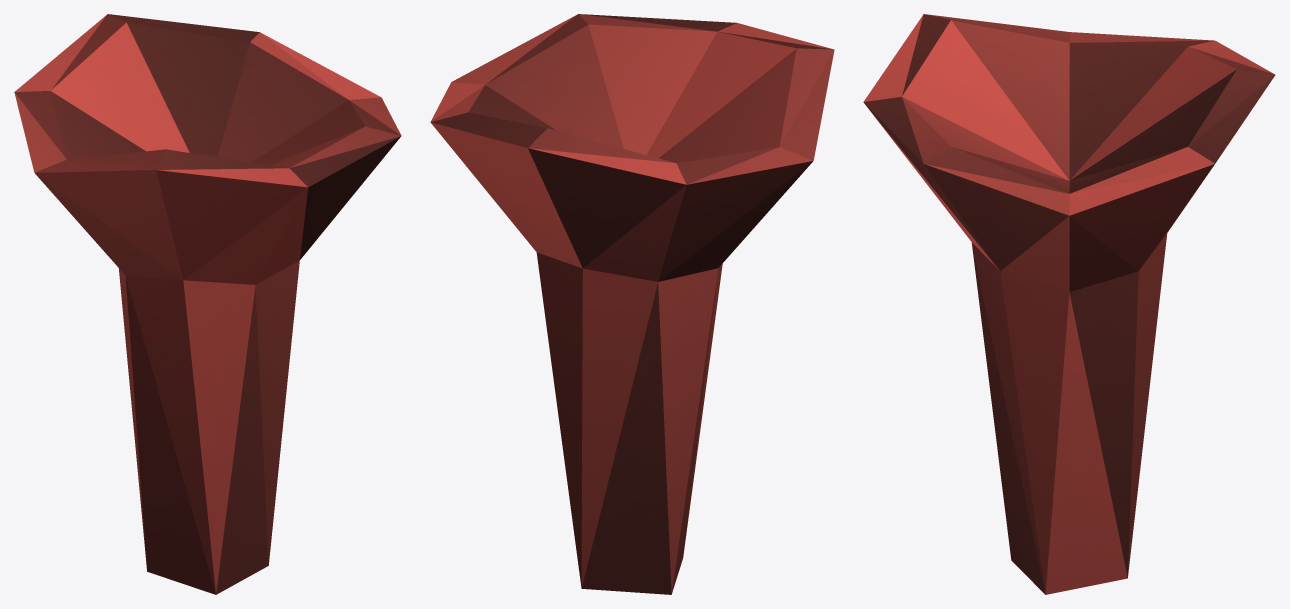
The model's file is Mushroom_Single_5.fbx.
The picture shows the model from 3 angles, left to right: view 1: azimuth 30°, elevation 25°; view 2: azimuth 150°, elevation 25°; view 3: azimuth 270°, elevation 25°; orthographic projection. The views are drawn at different scales.
Parts seen in each view (by area): view 1: polySurface587; view 2: polySurface587; view 3: polySurface587.
Part boxes in pixels (x1,y1,x2,y2): polySurface587: [14, 14, 401, 594]; polySurface587: [430, 14, 834, 594]; polySurface587: [863, 14, 1275, 594].
Size of the model in its own units: 72 by 96.54 by 72.
Materials: 1 (1 with a texture image).
